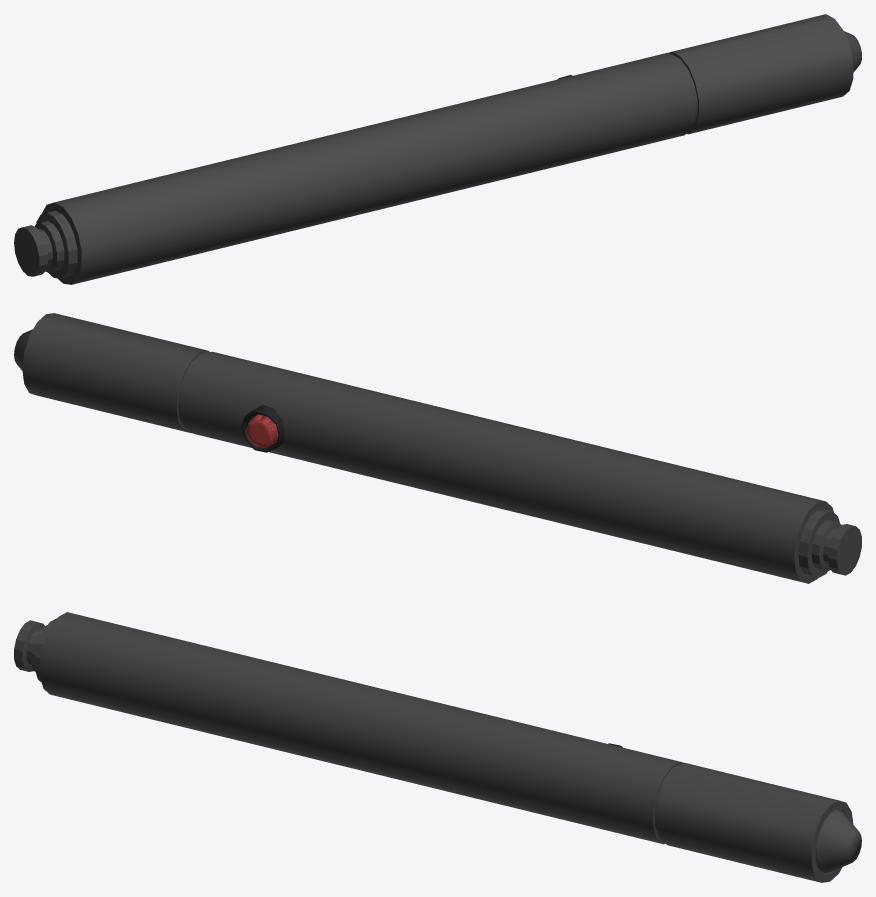
The model's file is Laser.fbx.
3 renders of one model, top to bottom at view 1: azimuth 30°, elevation 25°; view 2: azimuth 150°, elevation 25°; view 3: azimuth 330°, elevation 25°, orthographic.
Visible parts, largest first — view 1: Laser_body; view 2: Laser_body, Laser_button; view 3: Laser_body.
Boxes of the visible parts, <box> form: Laser_body: <box>14,14,861,284</box>; Laser_body: <box>14,313,861,583</box>; Laser_button: <box>241,405,284,452</box>; Laser_body: <box>14,612,861,882</box>.
Bounding box in the file's own units: 832 × 73.62 × 84.31.
